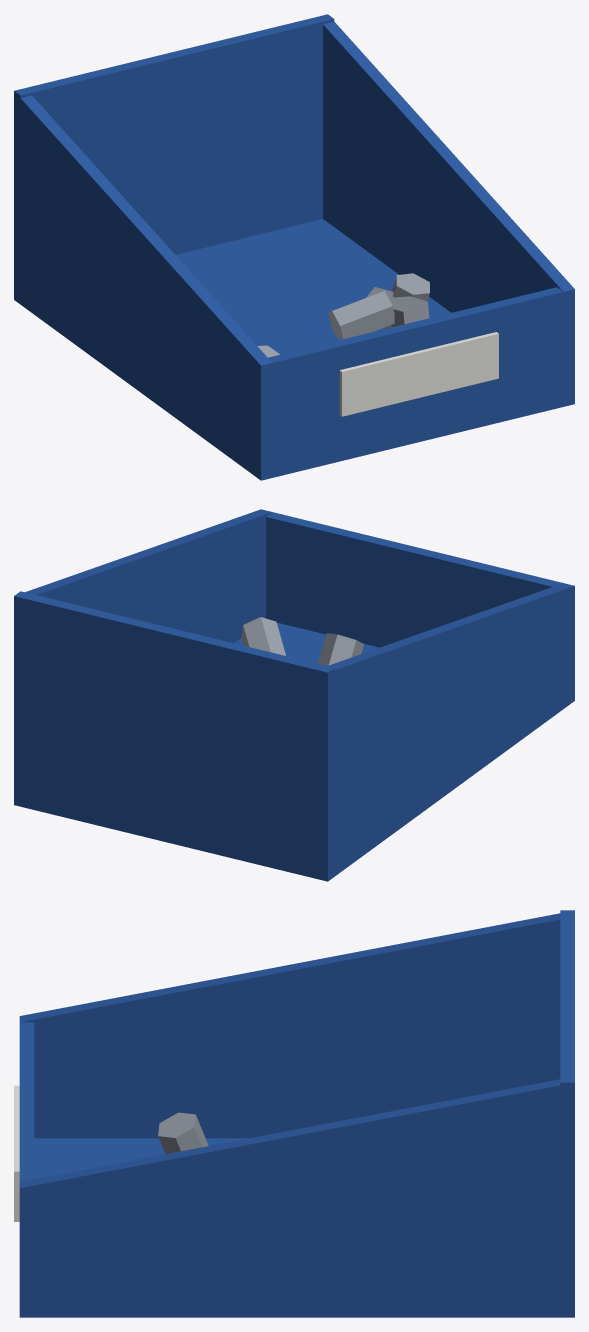
Rendered from Parts_Bin.fbx.
3 views of the same model, one above another, from view 1: azimuth 30°, elevation 25°; view 2: azimuth 150°, elevation 25°; view 3: azimuth 270°, elevation 25° (orthographic). The views are drawn at different scales.
Parts seen in each view (by area): view 1: Parts_Bin; view 2: Parts_Bin; view 3: Parts_Bin.
Boxes of the visible parts, x1,y1,x2,y2 form: Parts_Bin: [14, 14, 574, 480]; Parts_Bin: [14, 509, 574, 881]; Parts_Bin: [14, 910, 574, 1317].
Bounding box in the file's own units: 0.22 × 0.1412 × 0.303.
Materials: 1 (1 with a texture image).
